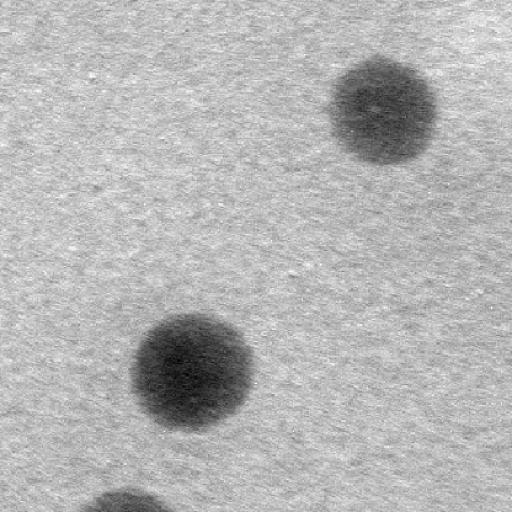Nanoparticles: (132, 311, 258, 436), (324, 52, 438, 166), (82, 483, 174, 512)
